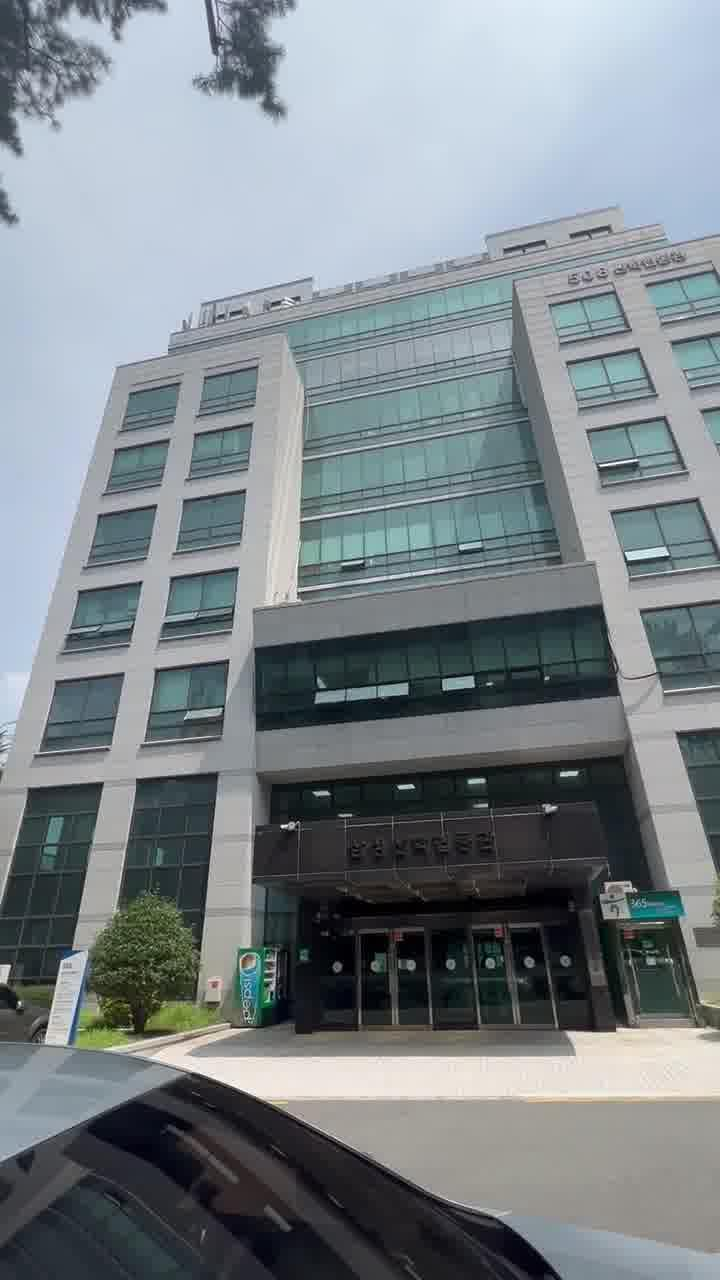building: (42, 196, 720, 1086)
